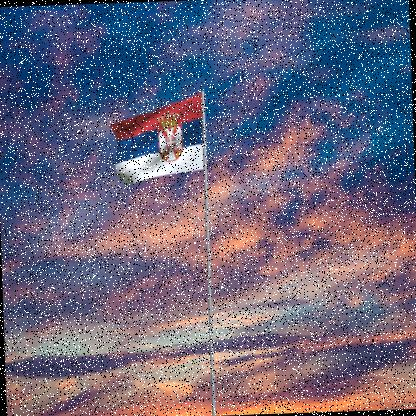rs: (109, 94, 206, 187)
